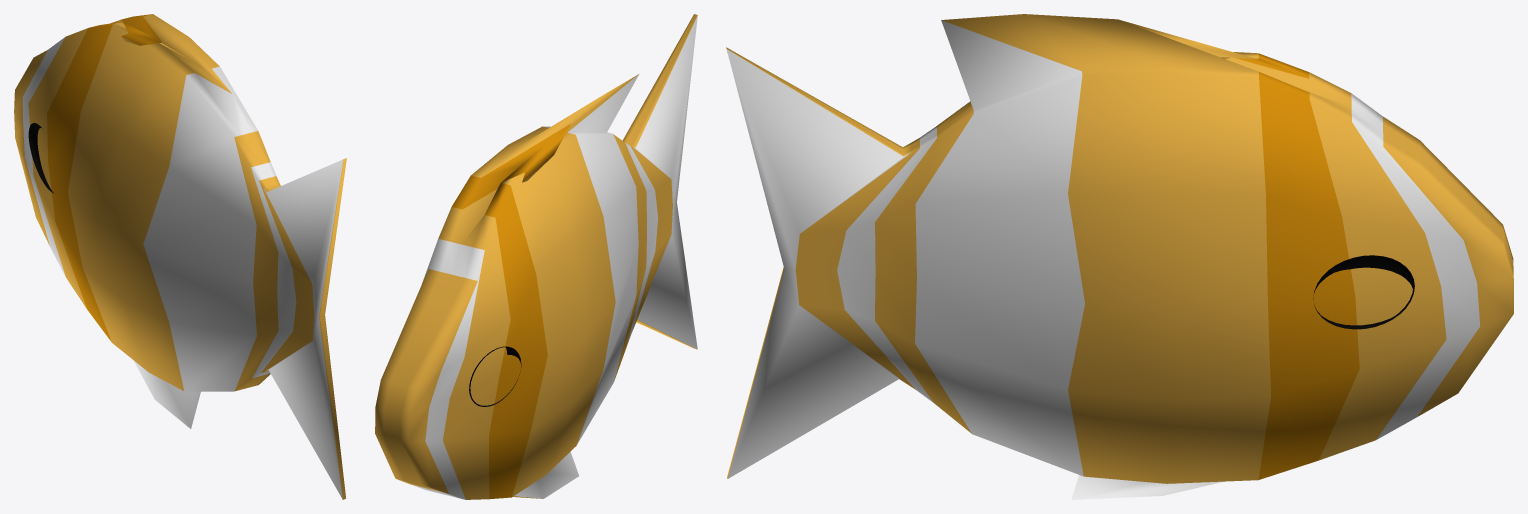
The model's file is fish3.glb.
3 renders of one model, left to right at view 1: azimuth 30°, elevation 25°; view 2: azimuth 150°, elevation 25°; view 3: azimuth 270°, elevation 25°, orthographic. The views are drawn at different scales.
Visible parts, largest first — view 1: Plane, Sphere.001; view 2: Plane; view 3: Plane, Sphere.
Boxes of the visible parts, x1,y1,x2,y2 form: Plane: (14,14,346,499); Sphere.001: (28,123,54,193); Plane: (375,14,697,499); Plane: (726,14,1513,499); Sphere: (1313,255,1414,329).
Size of the model in its own units: 0.8704 by 2.33 by 3.47.
